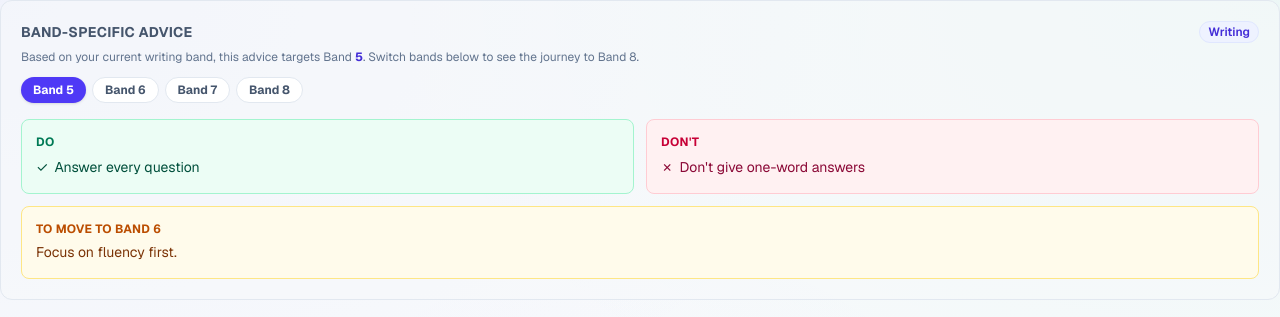
Test: BandAdviceBlock › switches to another band when a pill is clicked
The width and height of the screenshot is (1280, 317).
Check: the text "Answer every question" is shown, box [54,156,200,179]
Click the button "Band 8" at x=269, y=90, box [236,77,303,103]
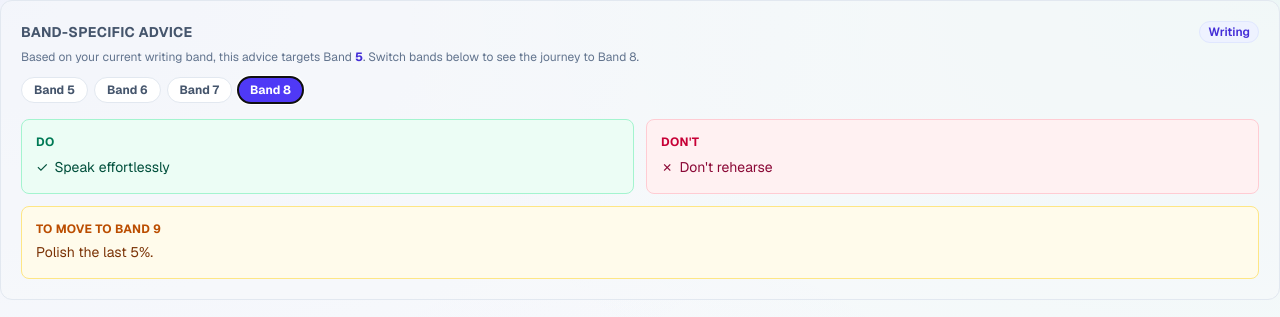
Check: the text "Speak effortlessly" is shown, box [54,156,170,179]
Check: the text "Don't rehearse" is shown, box [679,156,773,179]
Check: the text "To move to Band 9" is shown, box [36,221,161,237]
